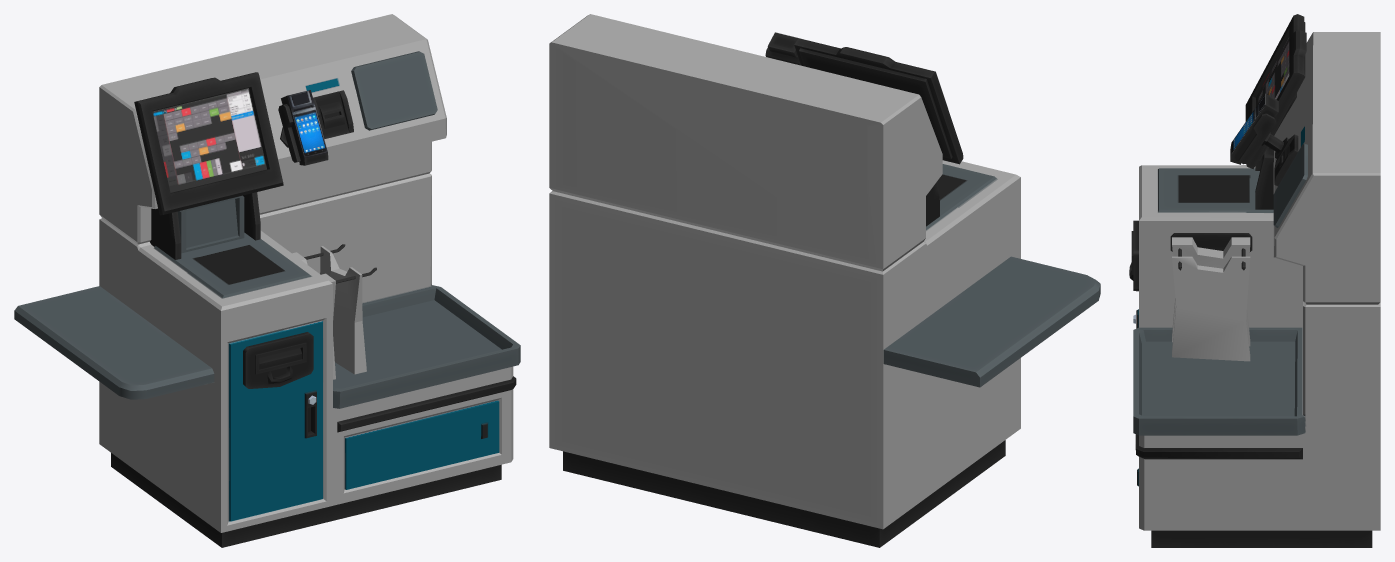
File: ShelfCheckouts.fbx
3 views of the same model, side by side, from view 1: azimuth 30°, elevation 25°; view 2: azimuth 150°, elevation 25°; view 3: azimuth 270°, elevation 25° (orthographic). The views are drawn at different scales.
Parts seen in each view (by area): view 1: ShelfCheckouts; view 2: ShelfCheckouts; view 3: ShelfCheckouts.
Part boxes in pixels (<box>): ShelfCheckouts: <box>14,14,520,547</box>; ShelfCheckouts: <box>549,14,1100,547</box>; ShelfCheckouts: <box>1129,14,1380,547</box>.
Size of the model in its own units: 149 by 147 by 84.64.
